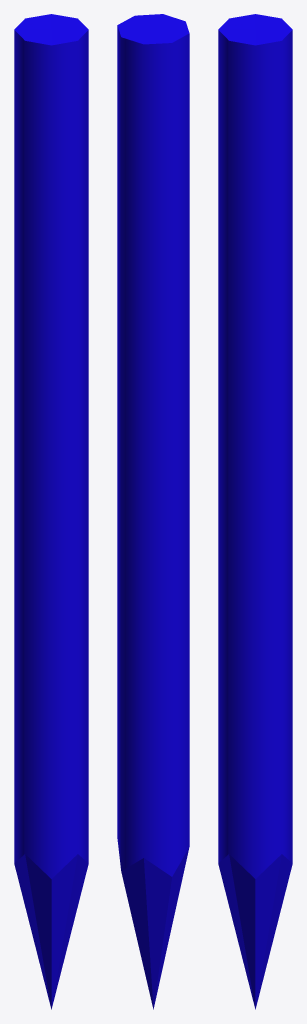
Rendered from office_pack_pencil_1_meshCollider.fbx.
3 views of the same model, side by side, from view 1: azimuth 90°, elevation 25°; view 2: azimuth 210°, elevation 25°; view 3: azimuth 270°, elevation 25° (orthographic).
Visible parts, largest first — view 1: office_pack_pencil_1_meshCollider; view 2: office_pack_pencil_1_meshCollider; view 3: office_pack_pencil_1_meshCollider.
Boxes of the visible parts, <box> form: office_pack_pencil_1_meshCollider: <box>14,14,88,1009</box>; office_pack_pencil_1_meshCollider: <box>117,14,189,1009</box>; office_pack_pencil_1_meshCollider: <box>218,14,292,1009</box>.
Bounding box in the file's own units: 1.5 × 21.75 × 1.5.
